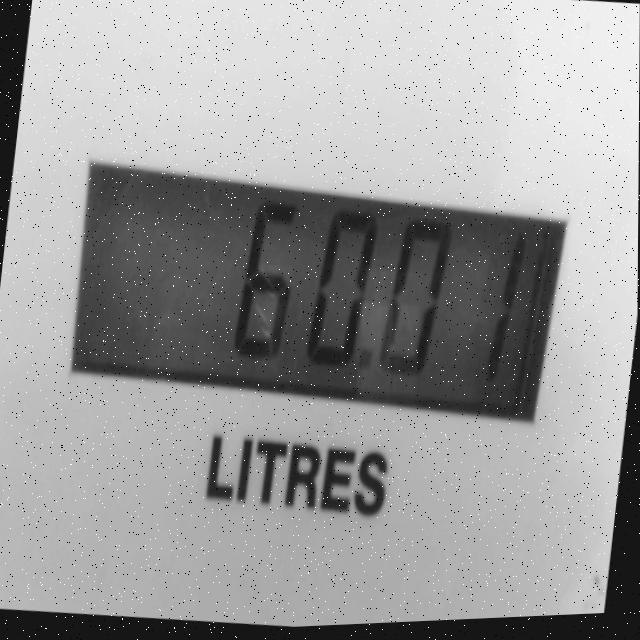.: (350, 342, 380, 386)
0: (369, 213, 464, 394), (300, 206, 381, 383)
1: (470, 227, 537, 407)
6: (218, 195, 311, 370)
